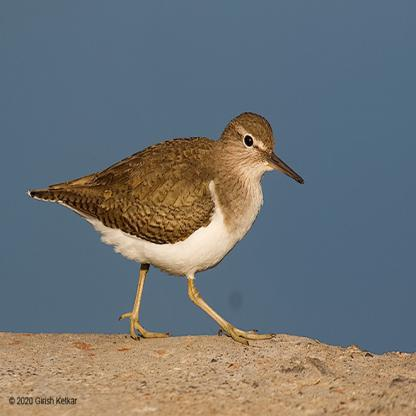Burung: (26, 112, 304, 342)
